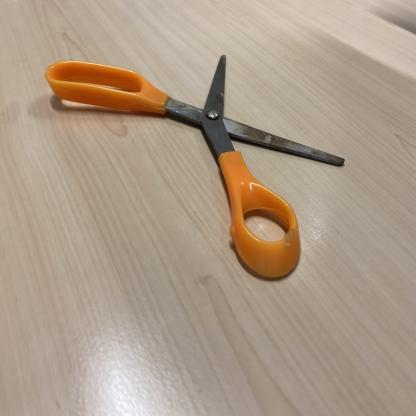scissors: (46, 50, 346, 285)
